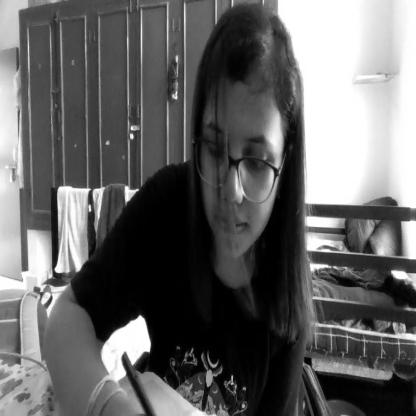Normal: (208, 9, 302, 269)
